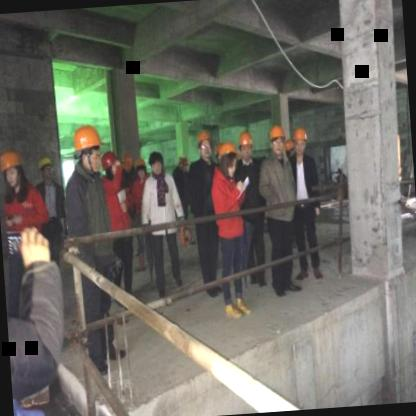head: (145, 146, 167, 178)
helmet: (72, 124, 104, 175), (0, 147, 27, 193), (213, 138, 240, 174), (268, 122, 288, 162), (291, 123, 312, 159), (100, 148, 122, 182), (194, 127, 213, 161), (238, 126, 255, 164), (35, 153, 54, 184), (134, 154, 148, 180)
